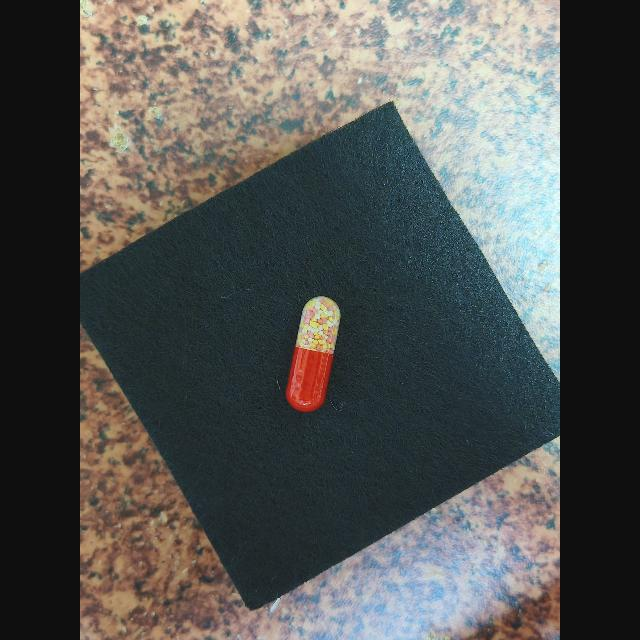Intact Capsule: (286, 296, 341, 412)
